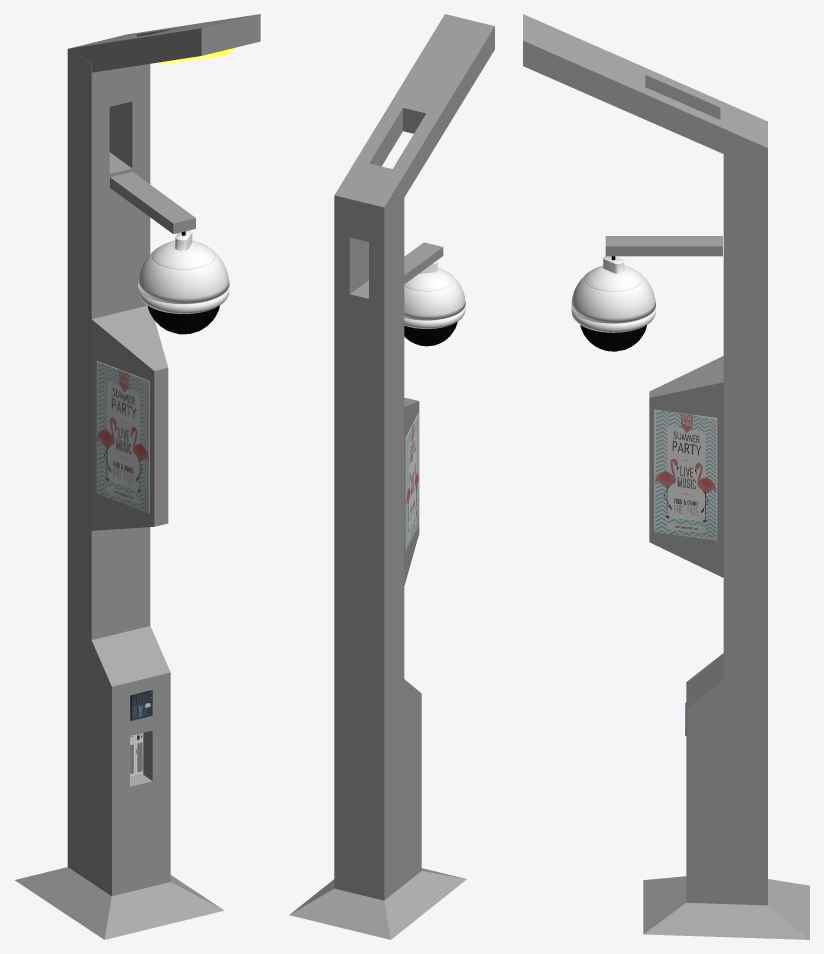
Rendered from wisdomLampPost.glb.
The picture shows the model from 3 angles, left to right: view 1: azimuth 30°, elevation 25°; view 2: azimuth 150°, elevation 25°; view 3: azimuth 270°, elevation 25°; orthographic projection. The views are drawn at different scales.
Visible parts, largest first — view 1: 灯杆, 广告牌1, Obj3d66-1413804-21-647, Obj3d66-1413804-50-238, 充电桩, 报警器, 充电桩显示器; view 2: 灯杆, Obj3d66-1413804-21-647, 广告牌1, Obj3d66-1413804-50-238; view 3: 灯杆, 广告牌2, Obj3d66-1413804-21-647, Obj3d66-1413804-50-238.
Part boxes in pixels (<box>): 灯杆: <box>15,14,260,939</box>; 广告牌1: <box>96,361,149,513</box>; Obj3d66-1413804-21-647: <box>138,230,229,313</box>; Obj3d66-1413804-50-238: <box>147,305,219,334</box>; 充电桩: <box>130,730,152,786</box>; 报警器: <box>130,690,152,720</box>; 充电桩显示器: <box>130,733,143,777</box>; 灯杆: <box>289,14,494,939</box>; Obj3d66-1413804-21-647: <box>404,261,465,328</box>; 广告牌1: <box>405,413,418,549</box>; Obj3d66-1413804-50-238: <box>404,322,457,346</box>; 灯杆: <box>523,14,809,939</box>; 广告牌2: <box>654,409,717,540</box>; Obj3d66-1413804-21-647: <box>571,256,656,332</box>; Obj3d66-1413804-50-238: <box>580,325,646,351</box>.
Size of the model in its own units: 1.62 by 12.31 by 3.61.
Materials: 8 (3 with a texture image).
